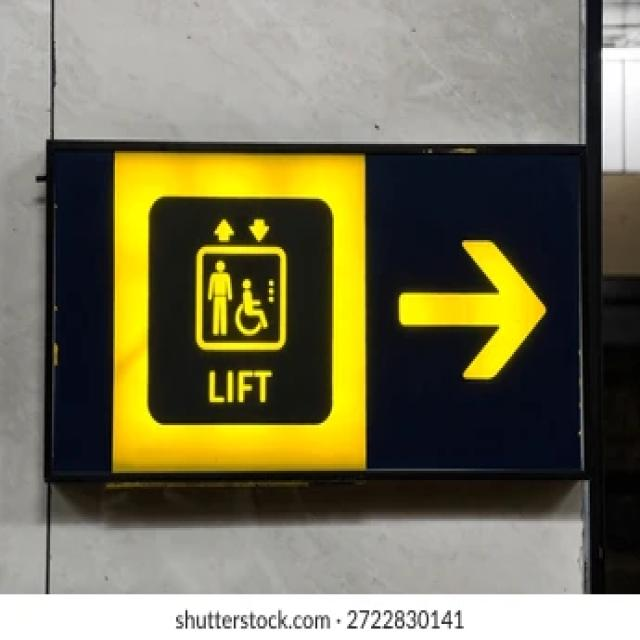lift_icon: (188, 212, 296, 361)
